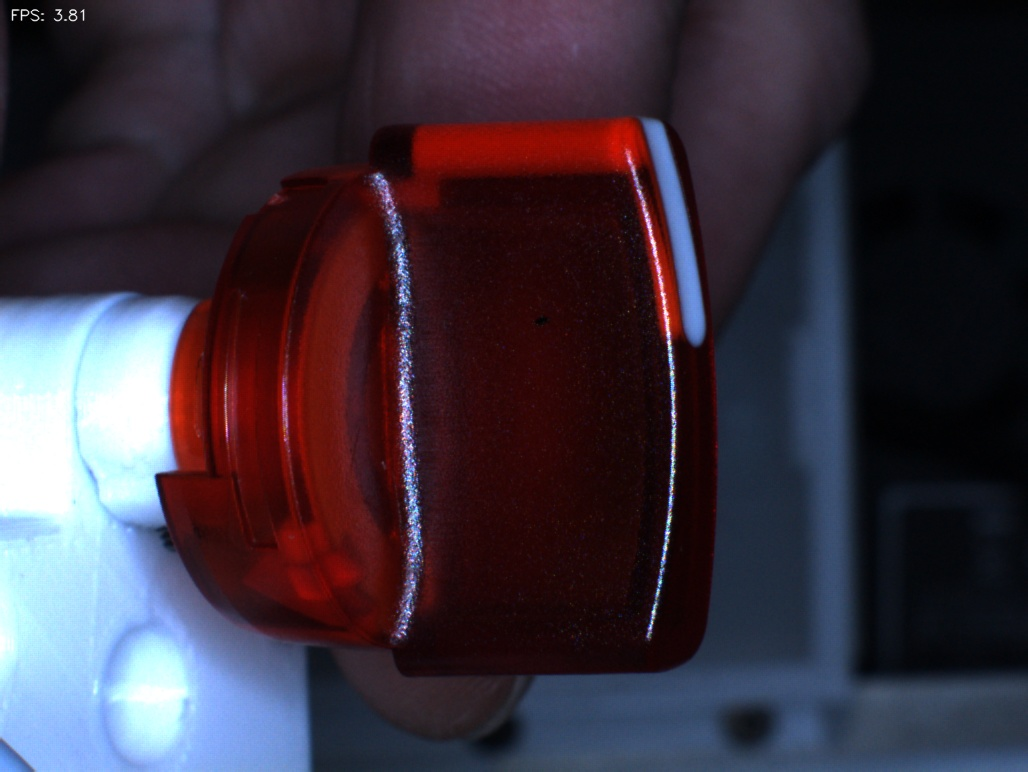PointNoir: (498, 279, 579, 358)
